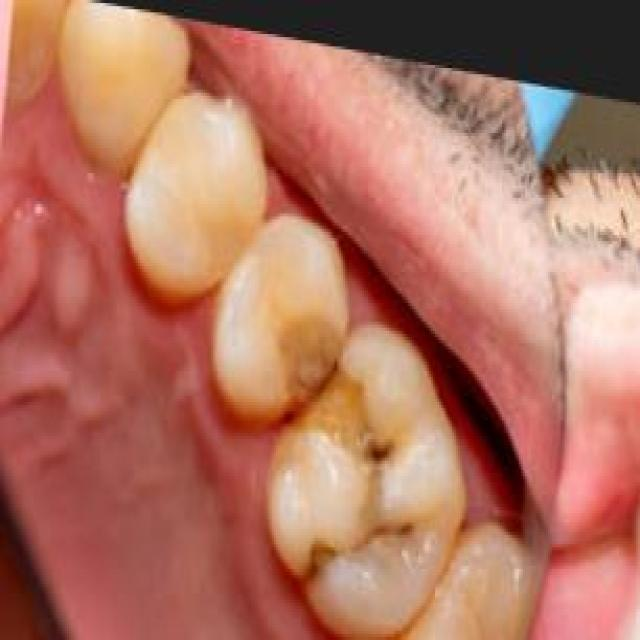caries: (268, 305, 394, 474), (296, 490, 419, 600)
